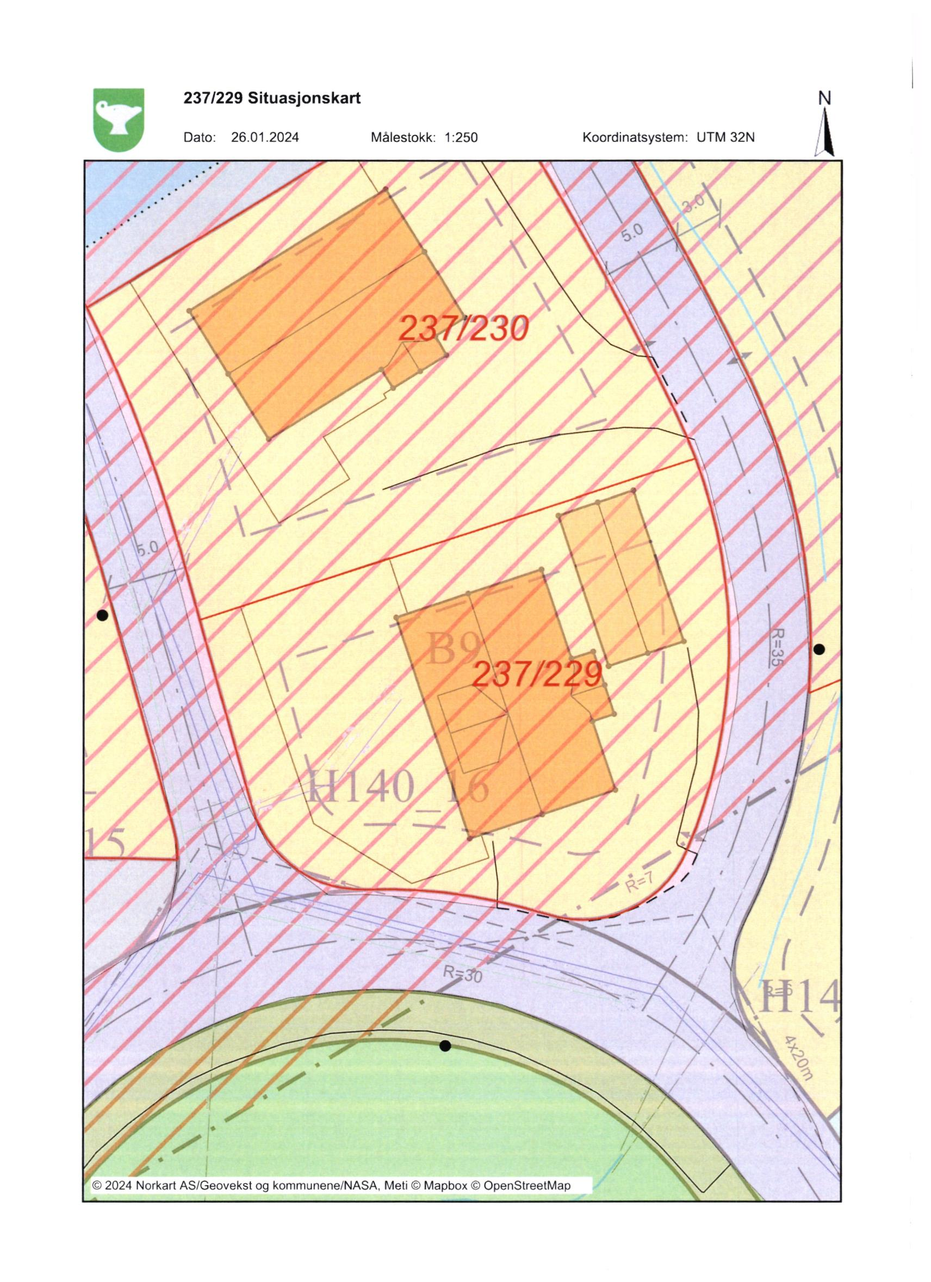situasjonskart: (83, 159, 845, 1204)
